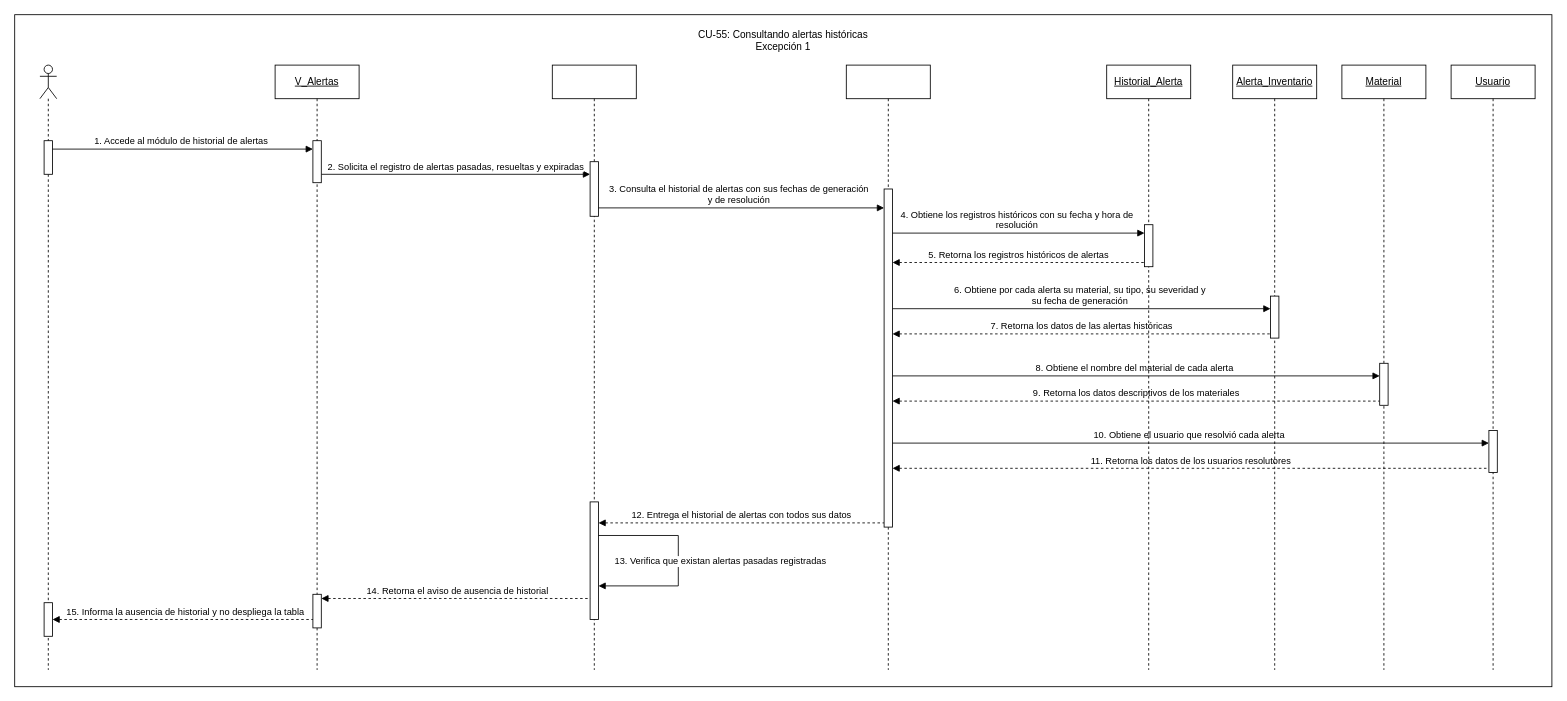
Some shapes in this 1567 by 701 pixel diagram are drawn without their labels. The box of each missing label's shape, as (x1, y1, x2, y2) in pixels:
C_alertas: (551, 64, 636, 670)
C_Postgre: (845, 64, 930, 670)
Gerencia: (39, 64, 57, 670)
